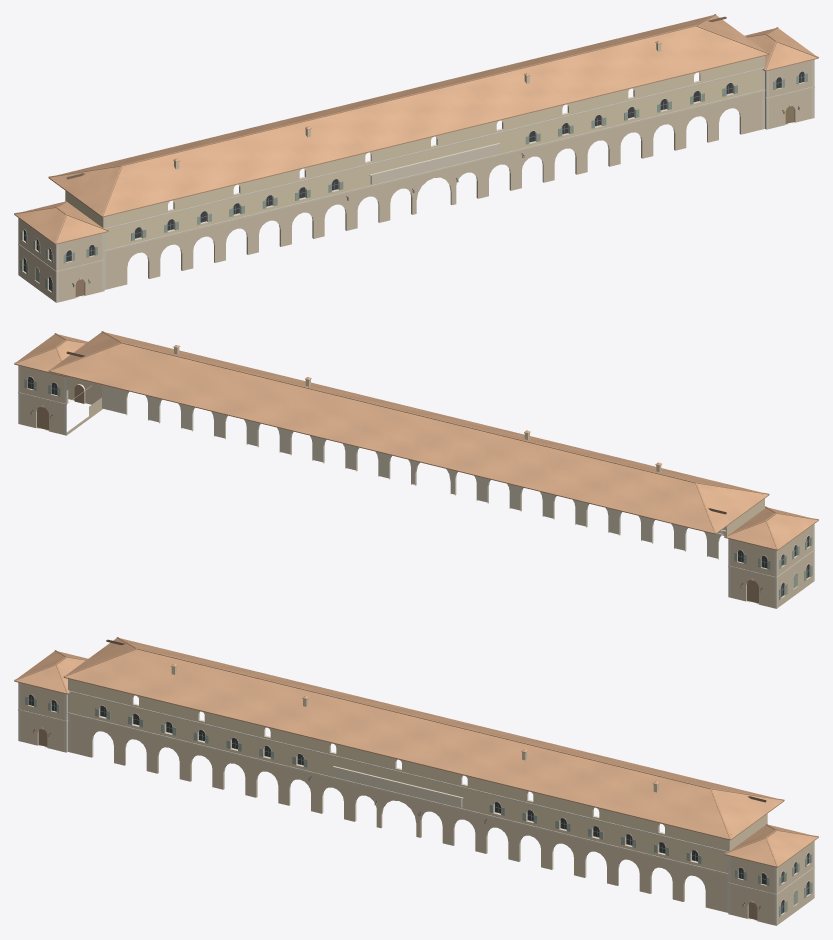
Rendered from SM_BM_BHip_StandShell.glb.
3 renders of one model, top to bottom at view 1: azimuth 30°, elevation 25°; view 2: azimuth 150°, elevation 25°; view 3: azimuth 330°, elevation 25°, orthographic.
Parts seen in each view (by area): view 1: SM_BM_BHip_StandShell; view 2: SM_BM_BHip_StandShell; view 3: SM_BM_BHip_StandShell.
Boxes of the visible parts, bbox=[...] form: SM_BM_BHip_StandShell: bbox=[14, 14, 818, 302]; SM_BM_BHip_StandShell: bbox=[14, 331, 818, 608]; SM_BM_BHip_StandShell: bbox=[14, 637, 818, 925].
Bounding box in the file's own units: 174 × 21.36 × 21.92.
